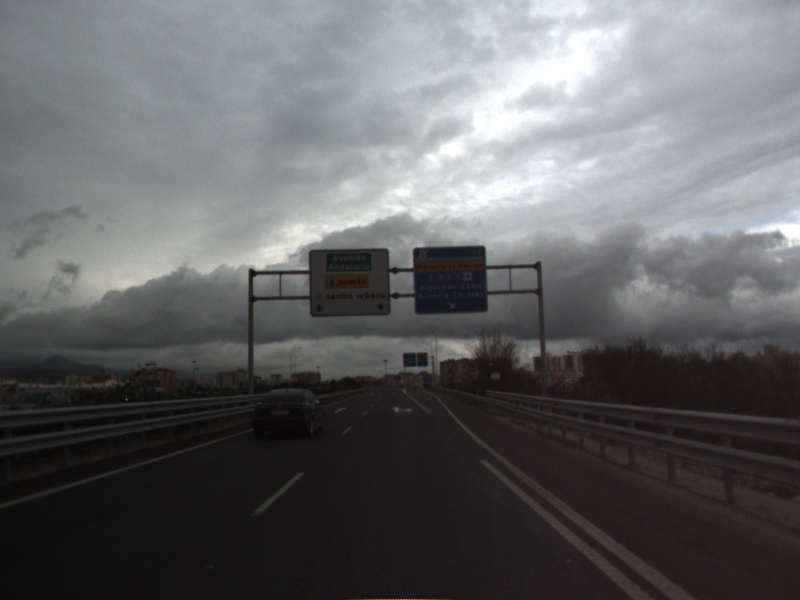STRAIGHT: (331, 405, 349, 415)
STRAIGHT_RIGHT: (389, 404, 415, 415)
